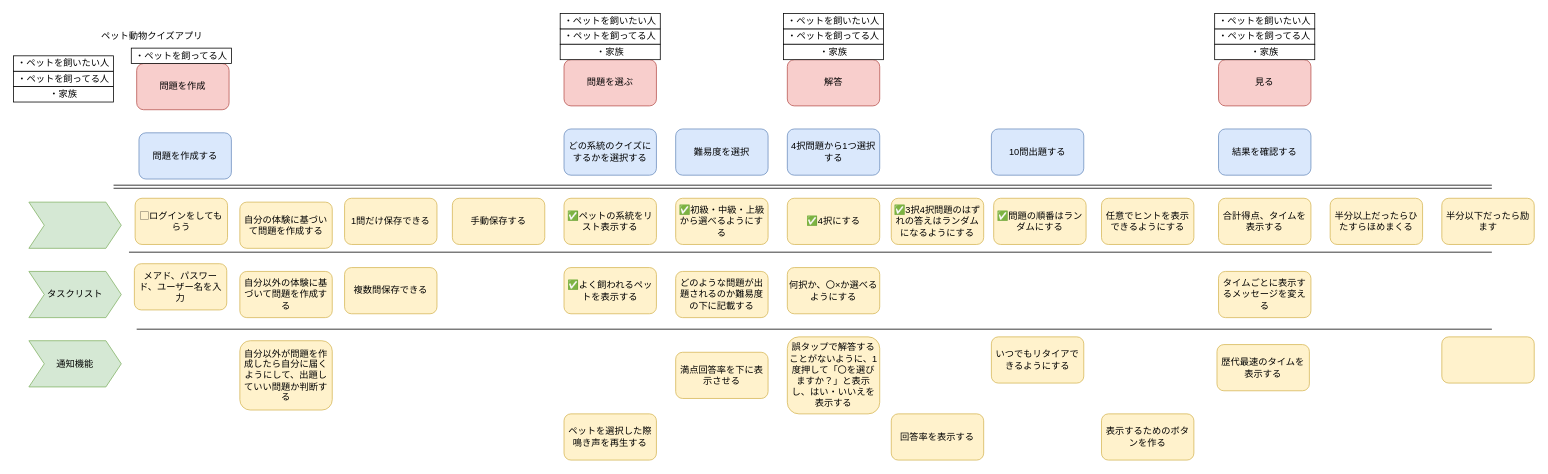
Some shapes in this 1548 by 474 pixel diagram are drawn without their labels. The shapes that lost their labels are listed below. From the top down, each one's centre as x and y in pixels, then its label:
point 74,224: ウォーキングスケルトン
point 1487,359: 間違えた問題の1問のどれかのアドバイスを表示
